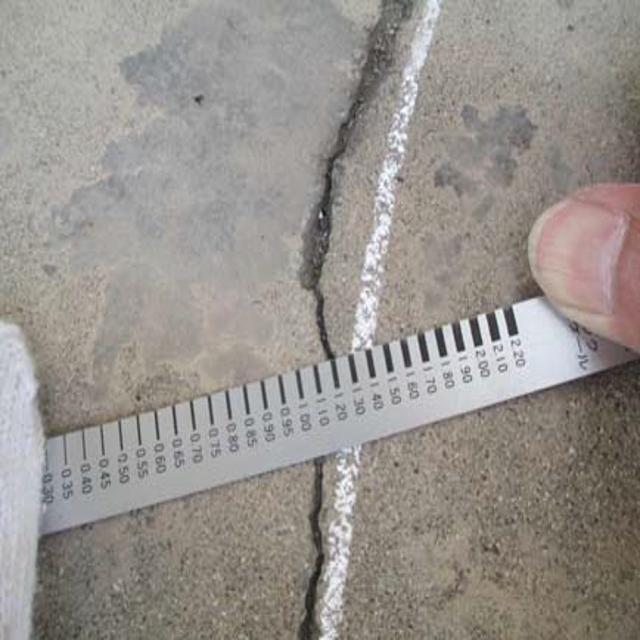crack: (291, 9, 383, 367), (286, 464, 348, 640)
